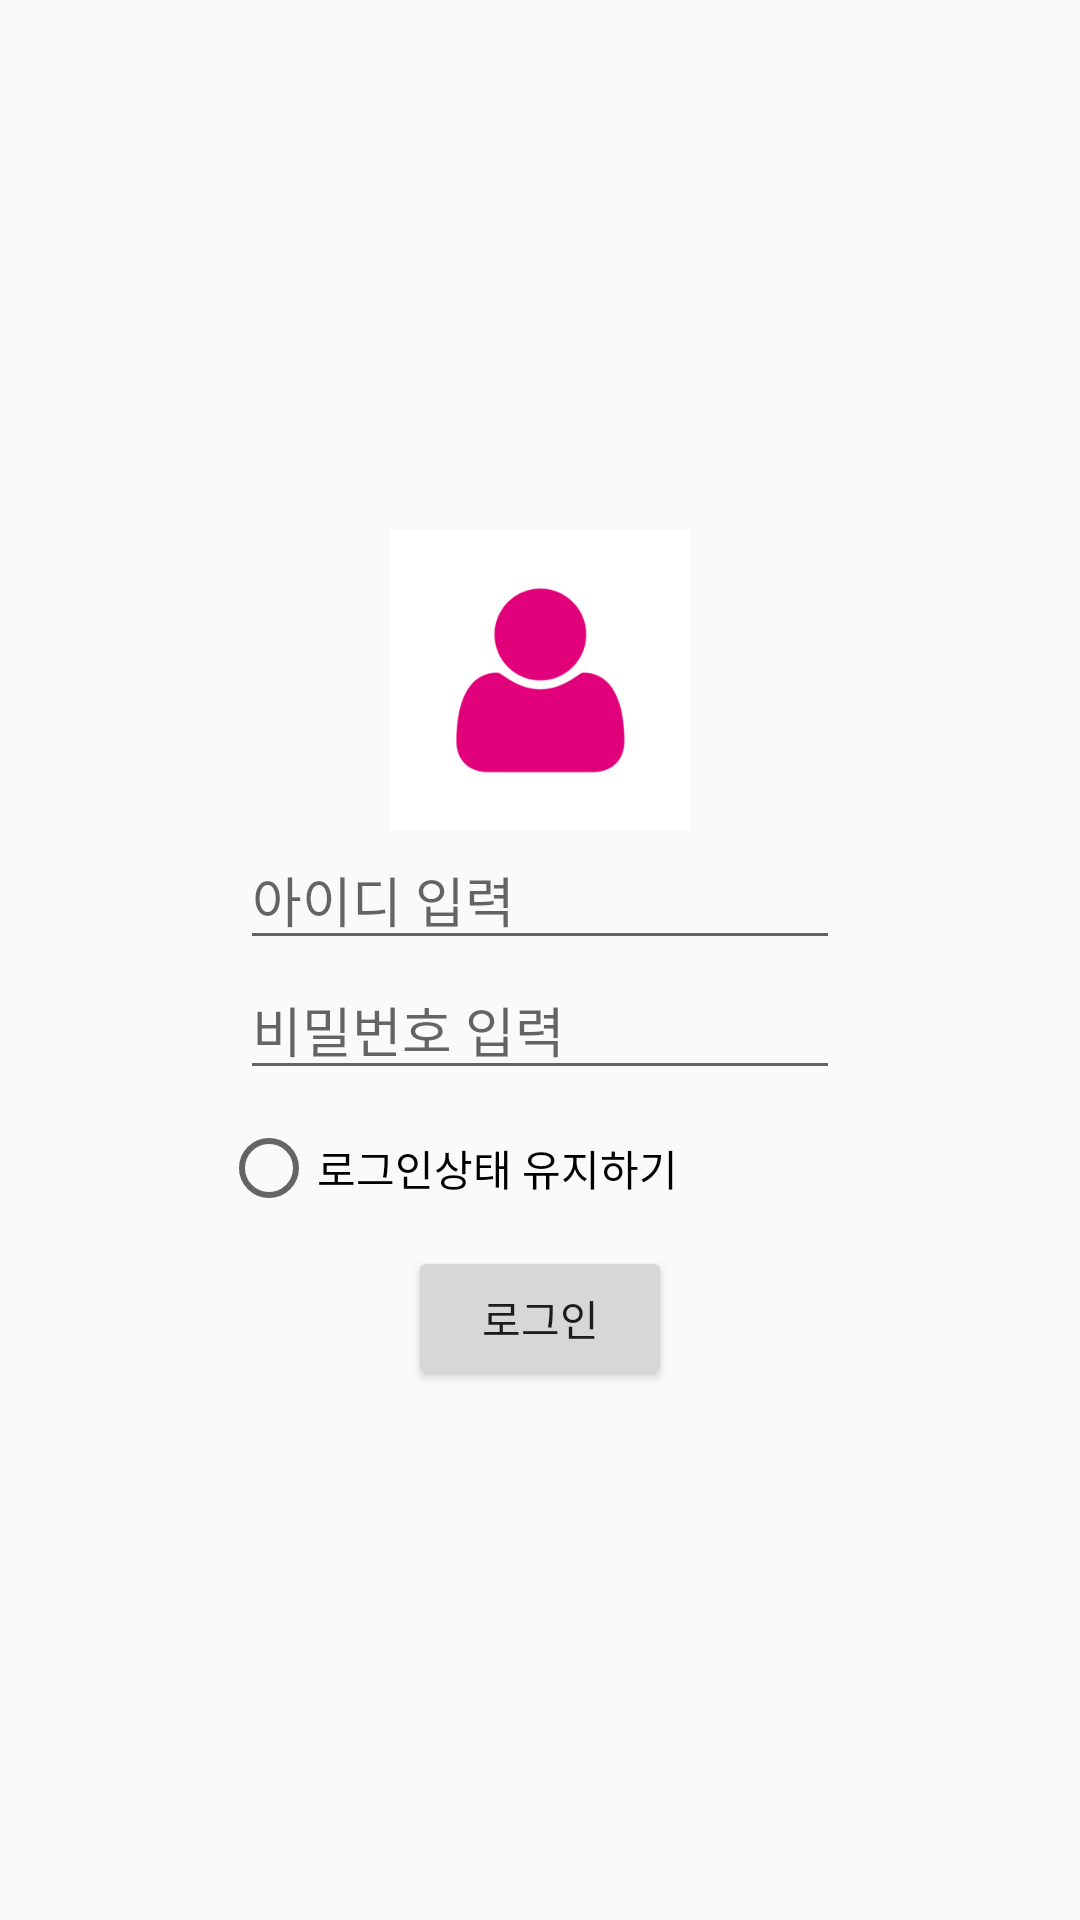

Locate icon controls on the screen. Image size 1080w x 1920h, boxes as Rect(x1, y1, x2, y2).
loginimg: Rect(456, 588, 625, 773)
